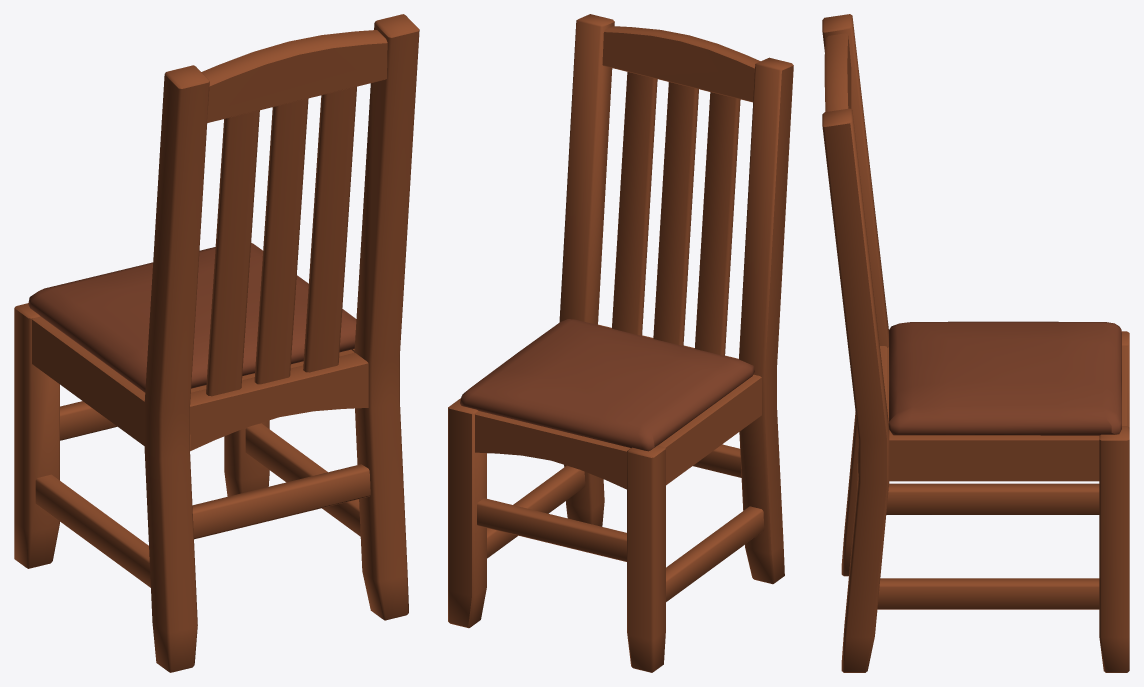
The model's file is Prop_DiningChair.glb.
3 renders of one model, left to right at view 1: azimuth 30°, elevation 25°; view 2: azimuth 150°, elevation 25°; view 3: azimuth 270°, elevation 25°, orthographic. The views are drawn at different scales.
Parts seen in each view (by area): view 1: Prop_DiningChair; view 2: Prop_DiningChair; view 3: Prop_DiningChair.
Part boxes in pixels (<box>): Prop_DiningChair: <box>14,14,419,672</box>; Prop_DiningChair: <box>448,14,793,672</box>; Prop_DiningChair: <box>822,14,1129,672</box>.
Bounding box in the file's own units: 0.4833 × 1.15 × 0.5771.
